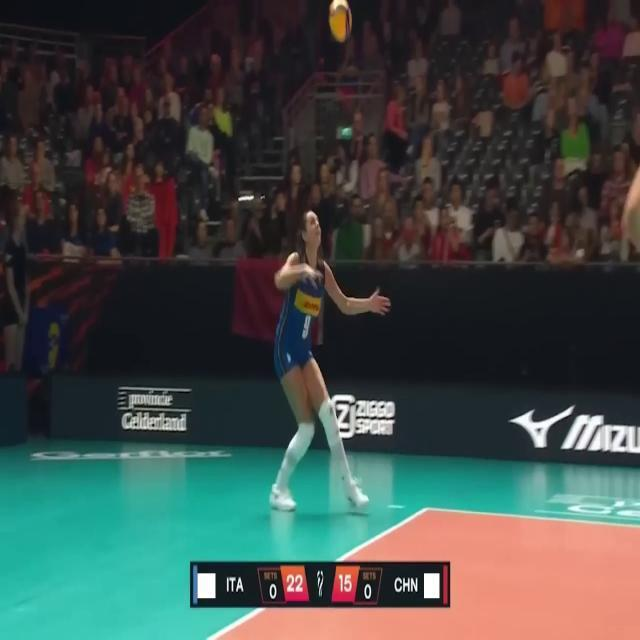volleyball: (328, 1, 353, 42)
